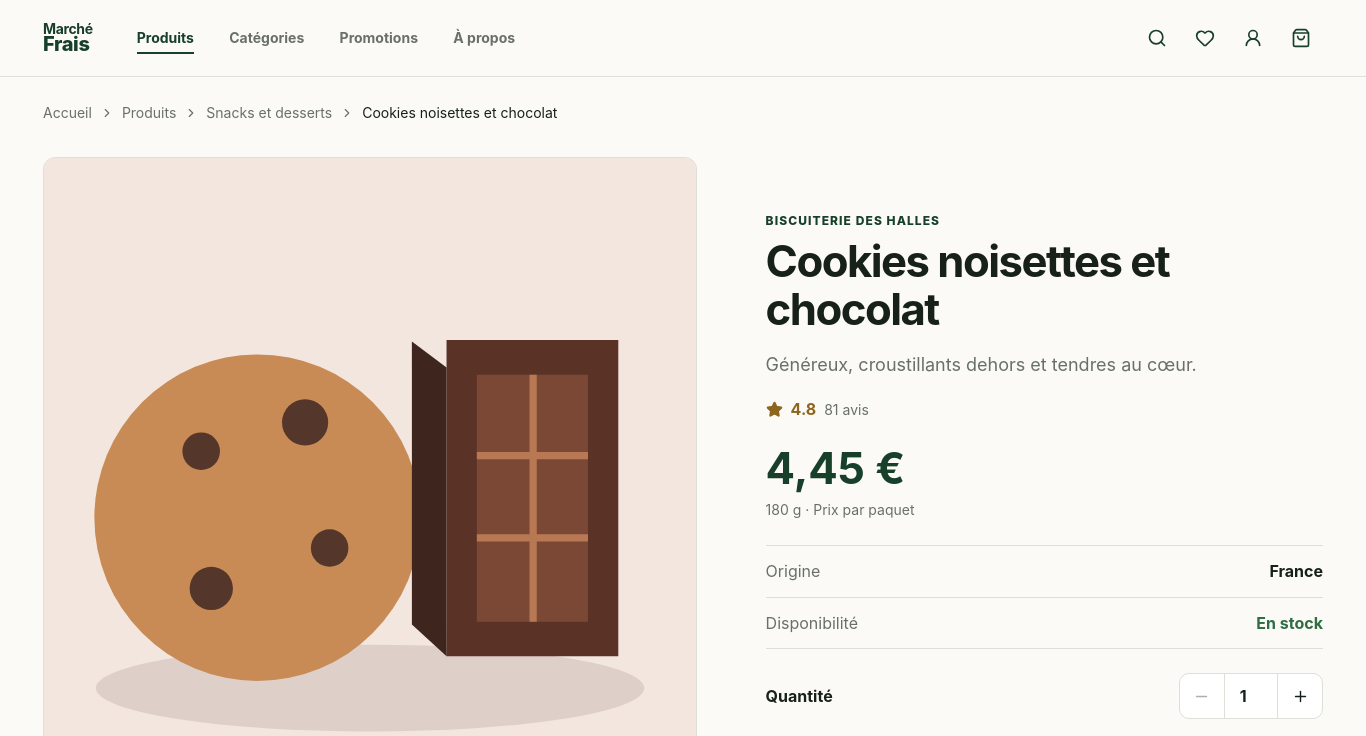
Test: ProductPage › resets state when navigating to another product and keeps quantities integral
The image size is (1366, 736).
Replace the text in the number field named "Quantité désirée" with "2.7" at coordinates (1251, 696), box [1224,674,1278,718]
(page scrolled)
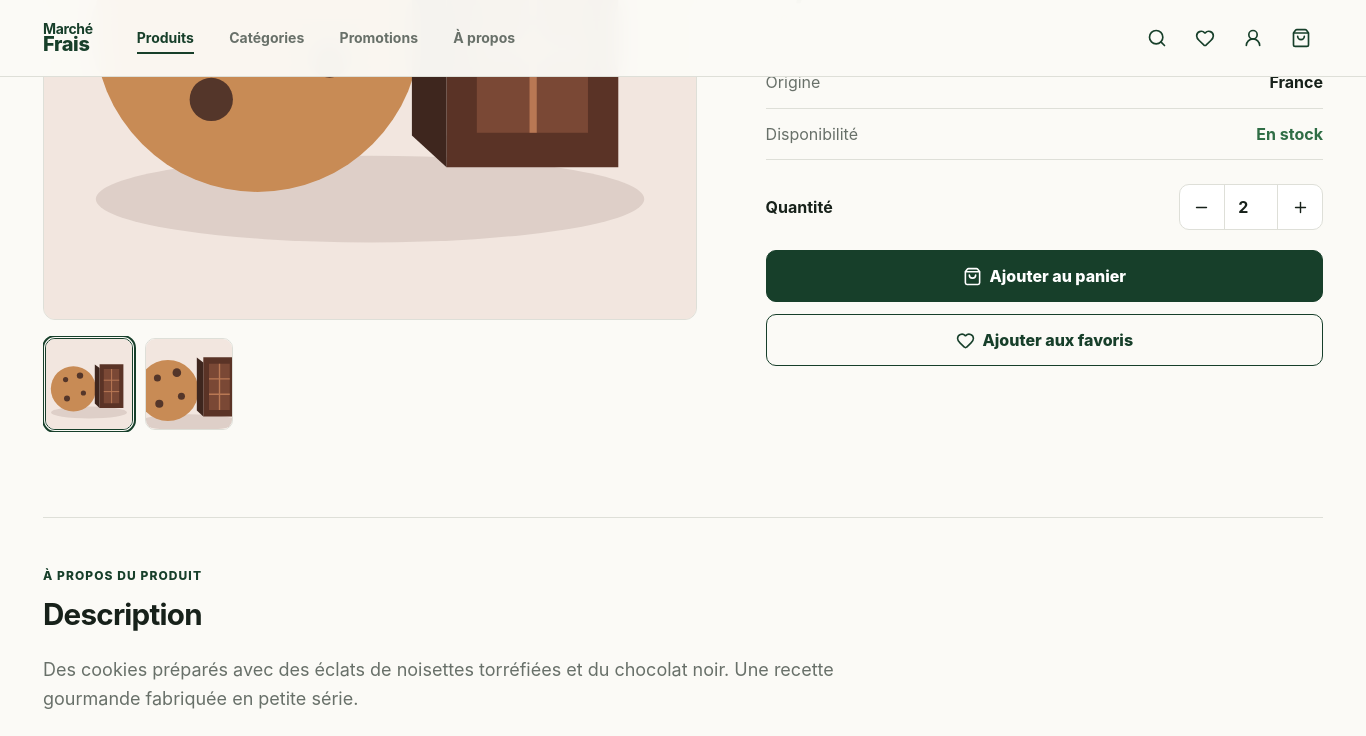
Expected: the number field named "Quantité désirée" holds "2", [1224,185,1278,229]
Click the button named "Afficher l’image 2" at coordinates (189, 384), box [145,338,233,430]
(page scrolled)
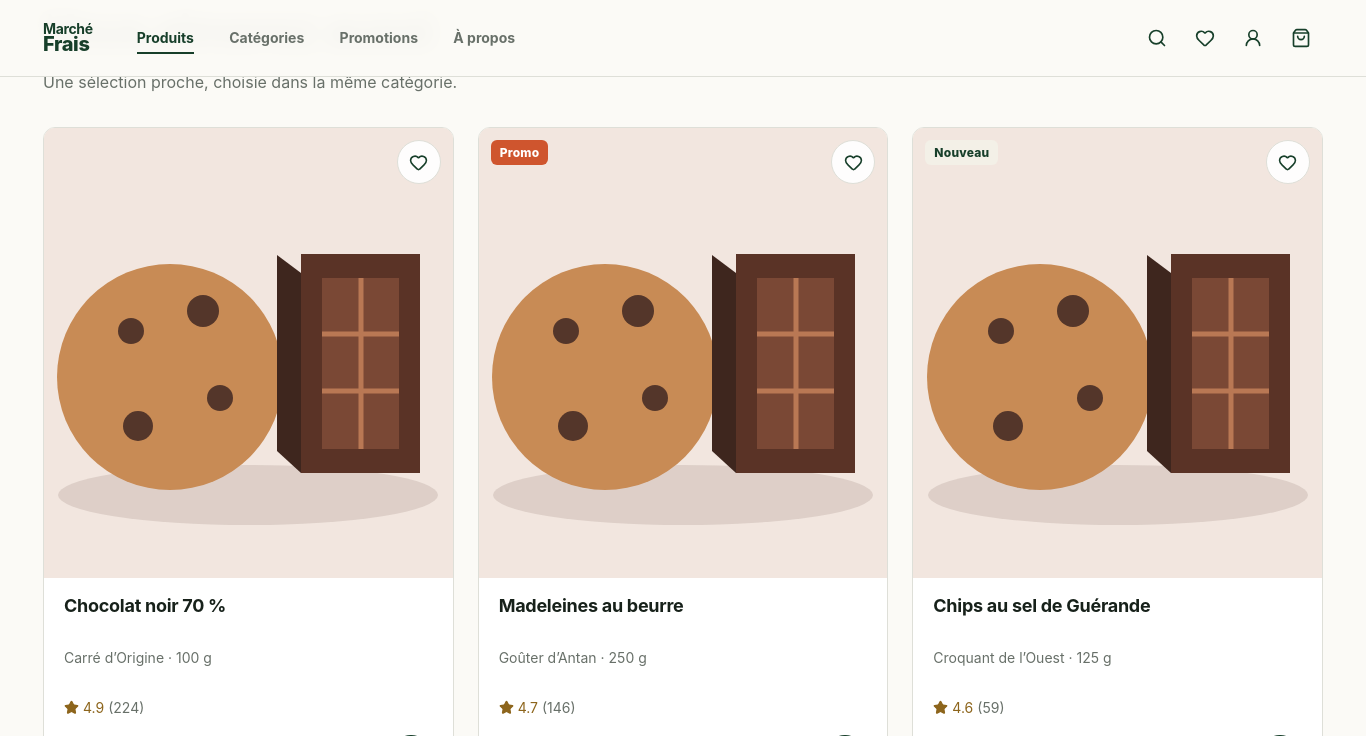
Click the link with aria-label "Voir le produit Chocolat noir 70 %" at coordinates (248, 384), box [44,128,453,640]
(page scrolled)
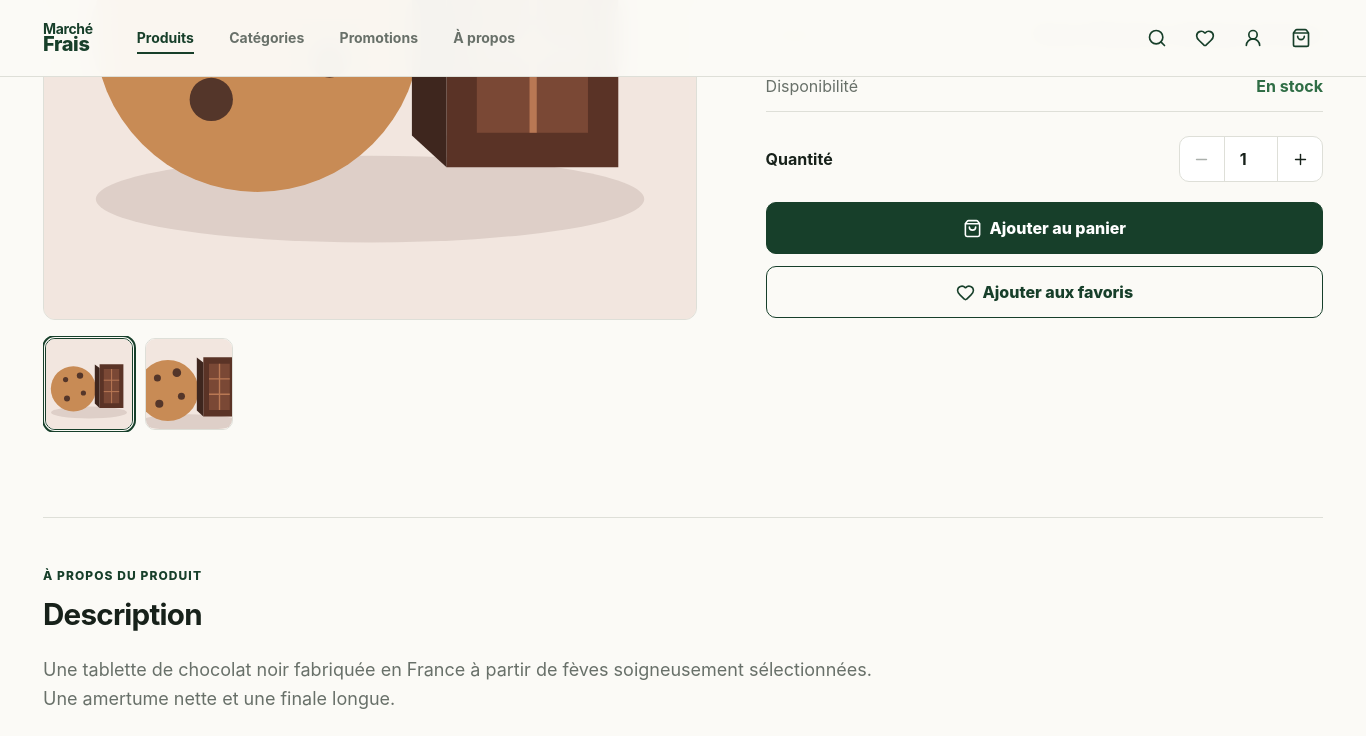
Expected: the number field named "Quantité désirée" holds "1", [1224,137,1278,181]
